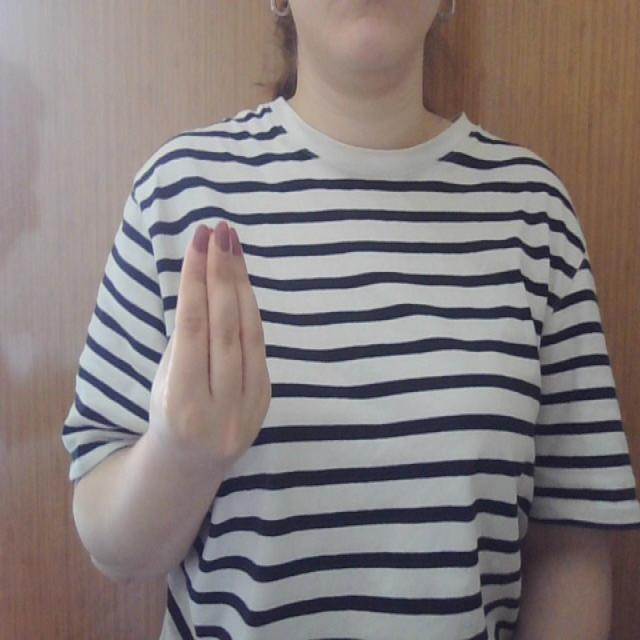iyi: (157, 215, 271, 449)
